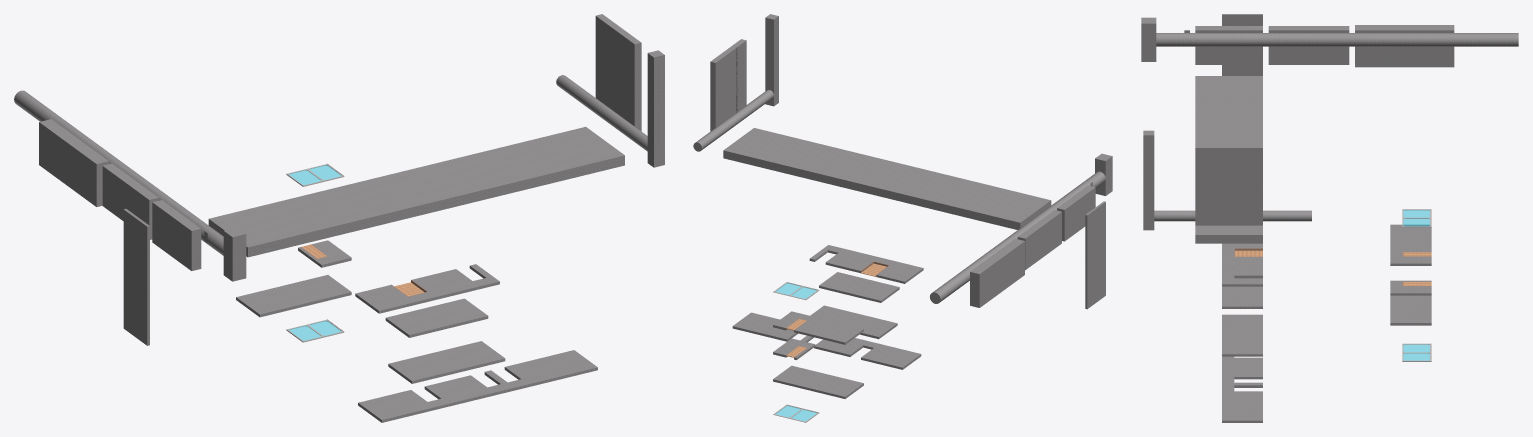
3 views of the same model, side by side, from view 1: azimuth 30°, elevation 25°; view 2: azimuth 150°, elevation 25°; view 3: azimuth 270°, elevation 25° (orthographic). The views are drawn at different scales.
Parts seen in each view (by area): view 1: 0_0_2_2_1; view 2: 0_0_2_2_1; view 3: 0_0_2_2_1.
Part boxes in pixels (x1,y1,x2,y2): 0_0_2_2_1: [14, 14, 664, 422]; 0_0_2_2_1: [693, 14, 1112, 422]; 0_0_2_2_1: [1141, 14, 1518, 422].
Size of the model in its own units: 34.9 by 24.07 by 27.57.
Materials: 31 (24 with a texture image).
